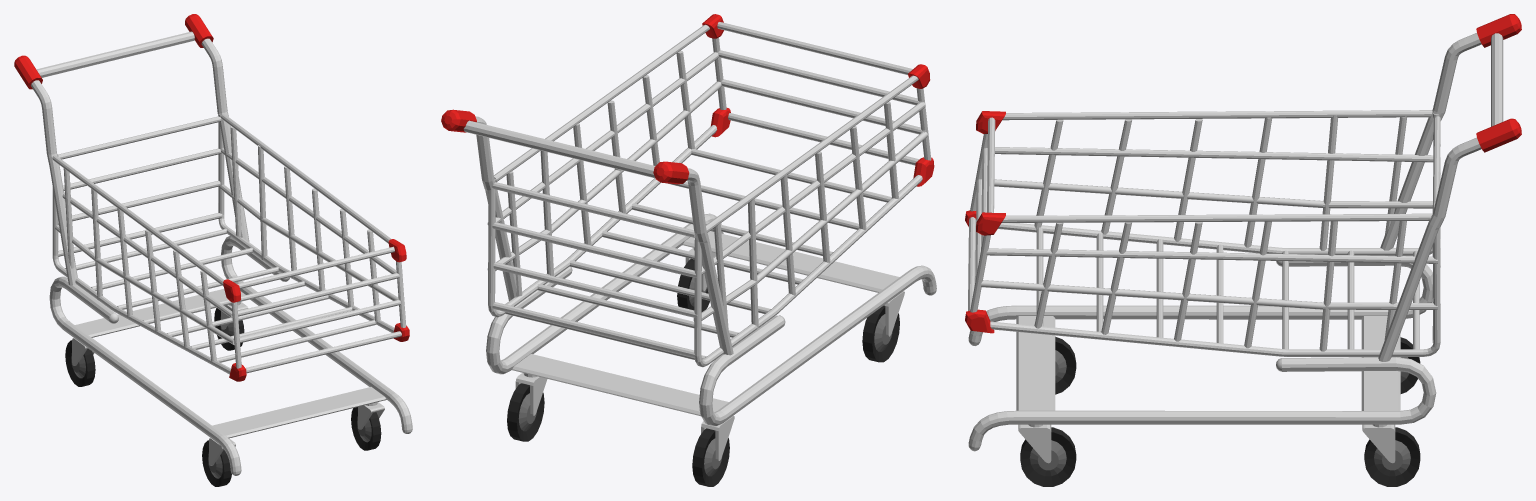
Rendered from carrito de compras posta.fbx.
3 views of the same model, side by side, from view 1: azimuth 30°, elevation 25°; view 2: azimuth 150°, elevation 25°; view 3: azimuth 270°, elevation 25° (orthographic). The views are drawn at different scales.
Visible parts, largest first — view 1: negro de las ruedas.016, negro de las ruedas.003, negro de las ruedas.017, negro de las ruedas.018, negro de las ruedas.001, negro de las ruedas.055, negro de las ruedas.027, negro de las ruedas.045, negro de las ruedas.002, negro de las ruedas.057, negro de las ruedas.056, negro de las ruedas.029 (+33 smaller); view 2: negro de las ruedas.016, negro de las ruedas.002, negro de las ruedas.017, negro de las ruedas.027, negro de las ruedas.003, negro de las ruedas.018, negro de las ruedas.045, negro de las ruedas.055, negro de las ruedas.001, negro de las ruedas.029, negro de las ruedas.057, negro de las ruedas.056 (+36 smaller); view 3: negro de las ruedas.017, negro de las ruedas.016, negro de las ruedas.045, negro de las ruedas.001, negro de las ruedas.018, negro de las ruedas.003, negro de las ruedas.028, negro de las ruedas.056, negro de las ruedas.058, negro de las ruedas.057, negro de las ruedas.059, negro de las ruedas.029 (+29 smaller).
Part boxes in pixels (box(x1,y1,x2,y2)): negro de las ruedas.016: box(49, 276, 241, 475); negro de las ruedas.003: box(212, 387, 386, 438); negro de las ruedas.017: box(221, 236, 412, 433); negro de las ruedas.018: box(14, 55, 77, 285); negro de las ruedas.001: box(185, 14, 249, 241); negro de las ruedas.055: box(36, 31, 194, 77); negro de las ruedas.027: box(52, 154, 230, 374); negro de las ruedas.045: box(218, 114, 394, 332); negro de las ruedas.002: box(75, 289, 245, 337); negro de las ruedas.057: box(52, 155, 223, 286); negro de las ruedas.056: box(221, 114, 391, 243); negro de las ruedas.029: box(55, 225, 234, 345); negro de las ruedas.016: box(699, 265, 936, 426); negro de las ruedas.002: box(512, 354, 728, 416); negro de las ruedas.017: box(486, 213, 723, 374); negro de las ruedas.027: box(694, 175, 922, 367); negro de las ruedas.003: box(682, 231, 899, 292); negro de las ruedas.018: box(653, 161, 733, 355); negro de las ruedas.045: box(488, 125, 717, 317); negro de las ruedas.055: box(463, 120, 655, 178); negro de las ruedas.001: box(441, 109, 518, 300); negro de las ruedas.029: box(693, 132, 927, 321); negro de las ruedas.057: box(706, 75, 918, 232); negro de las ruedas.056: box(494, 24, 709, 182); negro de las ruedas.017: box(968, 357, 1436, 451); negro de las ruedas.016: box(968, 256, 1432, 345); negro de las ruedas.045: box(990, 228, 1440, 356); negro de las ruedas.001: box(1378, 118, 1521, 361); negro de las ruedas.018: box(1380, 14, 1521, 255); negro de las ruedas.003: box(1016, 316, 1055, 410); negro de las ruedas.028: box(995, 147, 1433, 162); negro de las ruedas.056: box(1002, 213, 1432, 222); negro de las ruedas.058: box(986, 248, 1437, 263); negro de las ruedas.057: box(1002, 110, 1432, 120); negro de las ruedas.059: box(981, 280, 1437, 309); negro de las ruedas.029: box(994, 179, 1432, 208).
Bounding box in the file's own units: 172 × 262 × 356.
